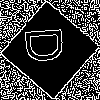D: (25, 25, 73, 65)
